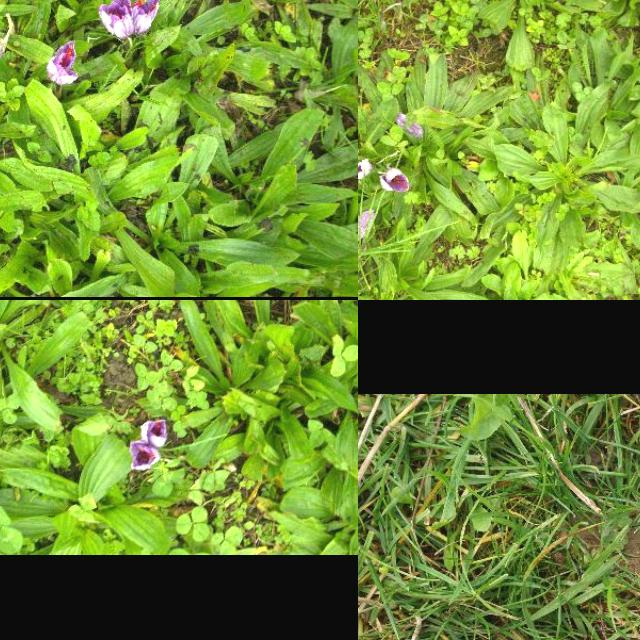flower: (99, 0, 142, 40), (48, 41, 78, 85), (132, 0, 161, 35), (130, 442, 162, 471), (140, 419, 168, 448), (380, 168, 410, 194), (358, 160, 372, 180), (0, 40, 5, 68)
